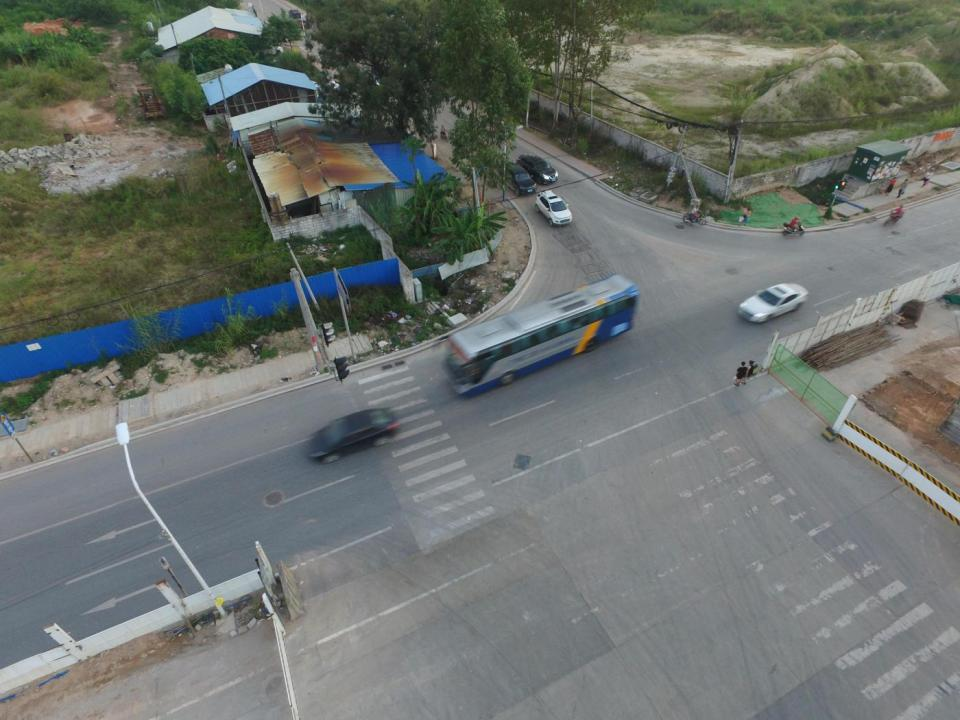bus: (443, 272, 639, 397)
car: (304, 406, 400, 467), (740, 280, 809, 322), (536, 191, 571, 227), (501, 158, 533, 195), (518, 156, 558, 184), (252, 45, 284, 56), (292, 19, 310, 28), (289, 9, 300, 17)
